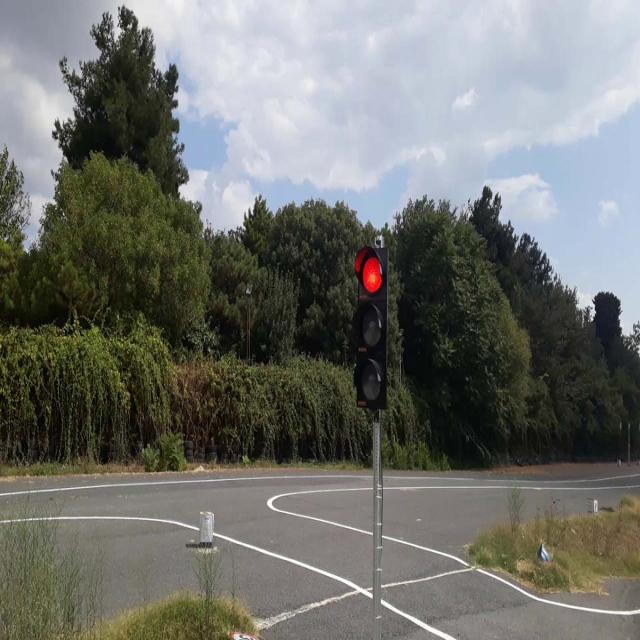kirmizi: (354, 245, 388, 410)
